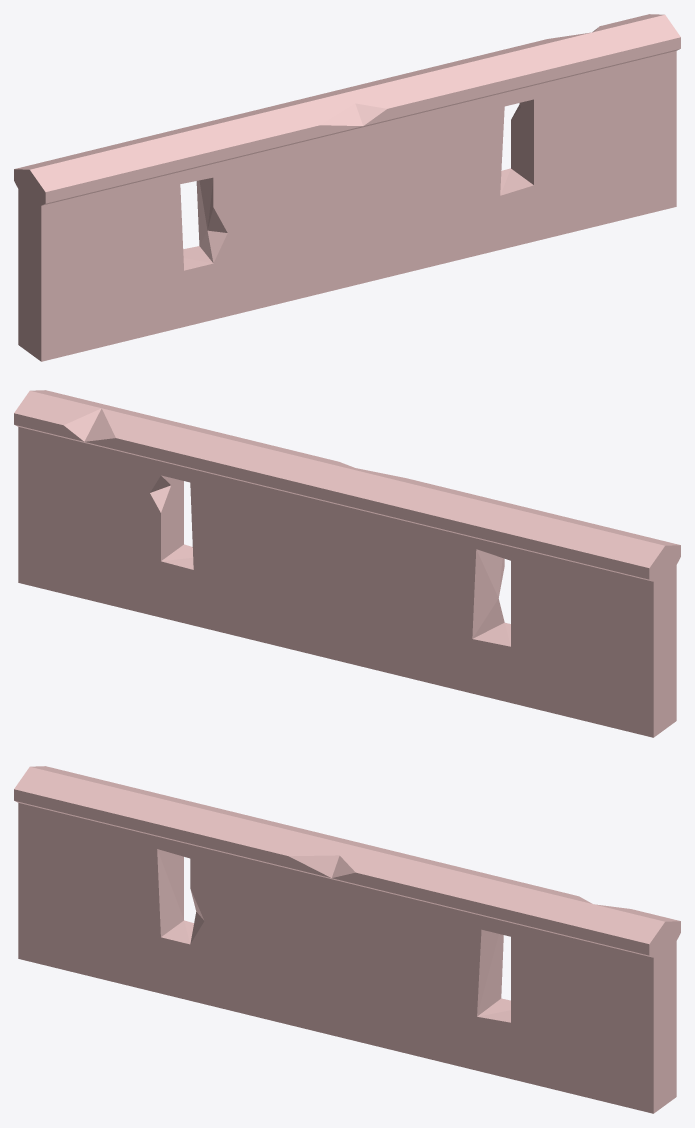
File: SM_Bld_Stone_Wall_01.glb
3 views of the same model, one above another, from view 1: azimuth 30°, elevation 25°; view 2: azimuth 150°, elevation 25°; view 3: azimuth 330°, elevation 25° (orthographic).
Parts seen in each view (by area): view 1: SM_Bld_Stone_Wall_01_00; view 2: SM_Bld_Stone_Wall_01_00; view 3: SM_Bld_Stone_Wall_01_00.
Boxes of the visible parts, x1,y1,x2,y2 form: SM_Bld_Stone_Wall_01_00: (14,14,680,361); SM_Bld_Stone_Wall_01_00: (14,390,680,737); SM_Bld_Stone_Wall_01_00: (14,766,680,1113).
Bounding box in the file's own units: 5 × 1.38 × 0.43.
1 material, 1 textured.
